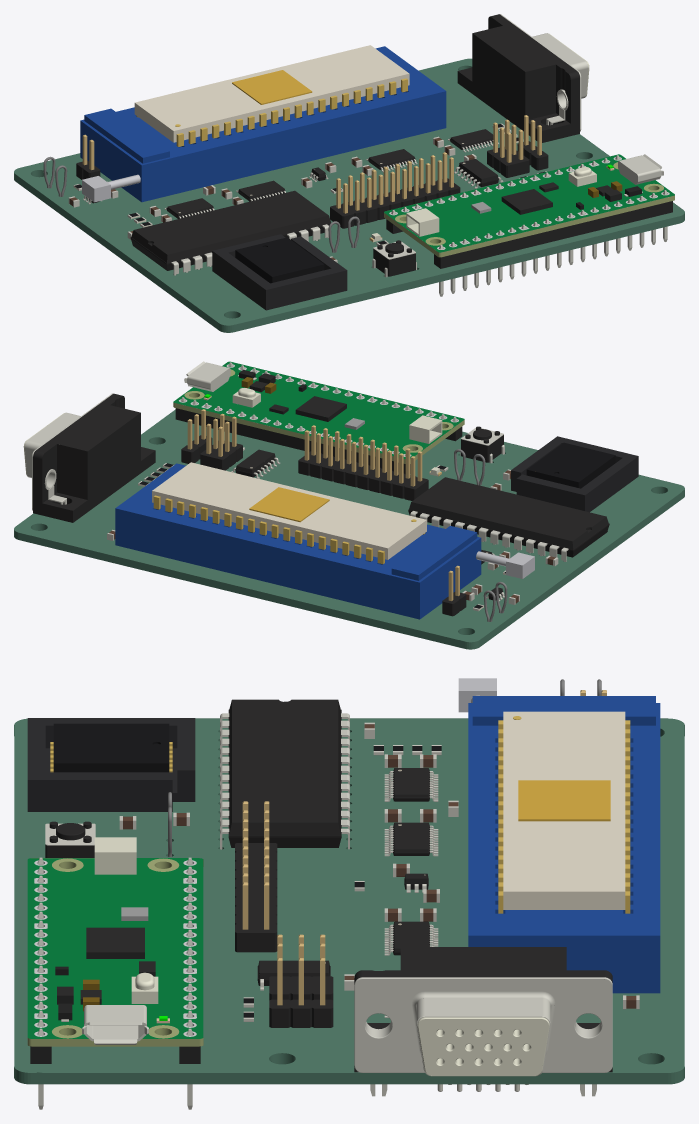
Rendered from bringup6502.glb.
The picture shows the model from 3 angles, top to bottom: view 1: azimuth 30°, elevation 25°; view 2: azimuth 150°, elevation 25°; view 3: azimuth 270°, elevation 25°; orthographic projection. The views are drawn at different scales.
Visible parts, largest first — view 1: =>[0:1:1:52], =>[0:1:1:29], RaspberryPi_Pico_H_Module_KiCad, =>[0:1:1:47], =>[0:1:1:33], =>[0:1:1:15], RaspberryPi_Pico_H_Header_DIP-40_H2.54mm_KiCad, =>[0:1:1:3], =>[0:1:1:19], =>[0:1:1:17] (×4), =>[0:1:1:23], =>[0:1:1:37] (+7 smaller); view 2: =>[0:1:1:52], =>[0:1:1:29], RaspberryPi_Pico_H_Module_KiCad, =>[0:1:1:47], =>[0:1:1:33], =>[0:1:1:15], =>[0:1:1:3], =>[0:1:1:19], =>[0:1:1:23], RaspberryPi_Pico_H_Header_DIP-40_H2.54mm_KiCad, =>[0:1:1:37], =>[0:1:1:35] (+6 smaller); view 3: =>[0:1:1:52], RaspberryPi_Pico_H_Module_KiCad, =>[0:1:1:47], =>[0:1:1:29], =>[0:1:1:33], =>[0:1:1:15], =>[0:1:1:19], =>[0:1:1:23], =>[0:1:1:3], =>[0:1:1:17] (×3), =>[0:1:1:35], RaspberryPi_Pico_H_Header_DIP-40_H2.54mm_KiCad (+6 smaller).
Boxes of the visible parts, x1,y1,x2,y2 form: =>[0:1:1:52]: [14, 58, 684, 332]; =>[0:1:1:29]: [80, 46, 446, 202]; RaspberryPi_Pico_H_Module_KiCad: [384, 154, 674, 257]; =>[0:1:1:47]: [457, 14, 589, 142]; =>[0:1:1:33]: [134, 45, 409, 142]; =>[0:1:1:15]: [130, 190, 330, 275]; RaspberryPi_Pico_H_Header_DIP-40_H2.54mm_KiCad: [386, 155, 672, 296]; =>[0:1:1:3]: [330, 152, 460, 228]; =>[0:1:1:19]: [212, 234, 347, 310]; =>[0:1:1:17] (×4): [164, 129, 499, 218]; =>[0:1:1:23]: [235, 237, 324, 283]; =>[0:1:1:37]: [136, 78, 407, 146]; =>[0:1:1:52]: [14, 409, 684, 649]; =>[0:1:1:29]: [115, 463, 481, 619]; RaspberryPi_Pico_H_Module_KiCad: [173, 361, 464, 463]; =>[0:1:1:47]: [23, 393, 155, 522]; =>[0:1:1:33]: [152, 462, 426, 559]; =>[0:1:1:15]: [408, 477, 609, 561]; =>[0:1:1:3]: [298, 425, 428, 500]; =>[0:1:1:19]: [511, 436, 638, 512]; =>[0:1:1:23]: [526, 442, 615, 488]; RaspberryPi_Pico_H_Header_DIP-40_H2.54mm_KiCad: [175, 362, 462, 474]; =>[0:1:1:37]: [153, 495, 425, 564]; =>[0:1:1:35]: [249, 487, 329, 522]; =>[0:1:1:52]: [14, 718, 684, 1084]; RaspberryPi_Pico_H_Module_KiCad: [27, 837, 203, 1046]; =>[0:1:1:47]: [354, 947, 612, 1096]; =>[0:1:1:29]: [468, 696, 660, 993]; =>[0:1:1:33]: [503, 711, 625, 909]; =>[0:1:1:15]: [220, 699, 349, 849]; =>[0:1:1:19]: [27, 718, 195, 811]; =>[0:1:1:23]: [53, 723, 169, 772]; =>[0:1:1:3]: [235, 801, 277, 952]; =>[0:1:1:17] (×3): [384, 768, 438, 955]; =>[0:1:1:35]: [518, 780, 610, 821]; RaspberryPi_Pico_H_Header_DIP-40_H2.54mm_KiCad: [30, 857, 200, 1109].
Bounding box in the file's own units: 0.1064 × 0.0189 × 0.08.
